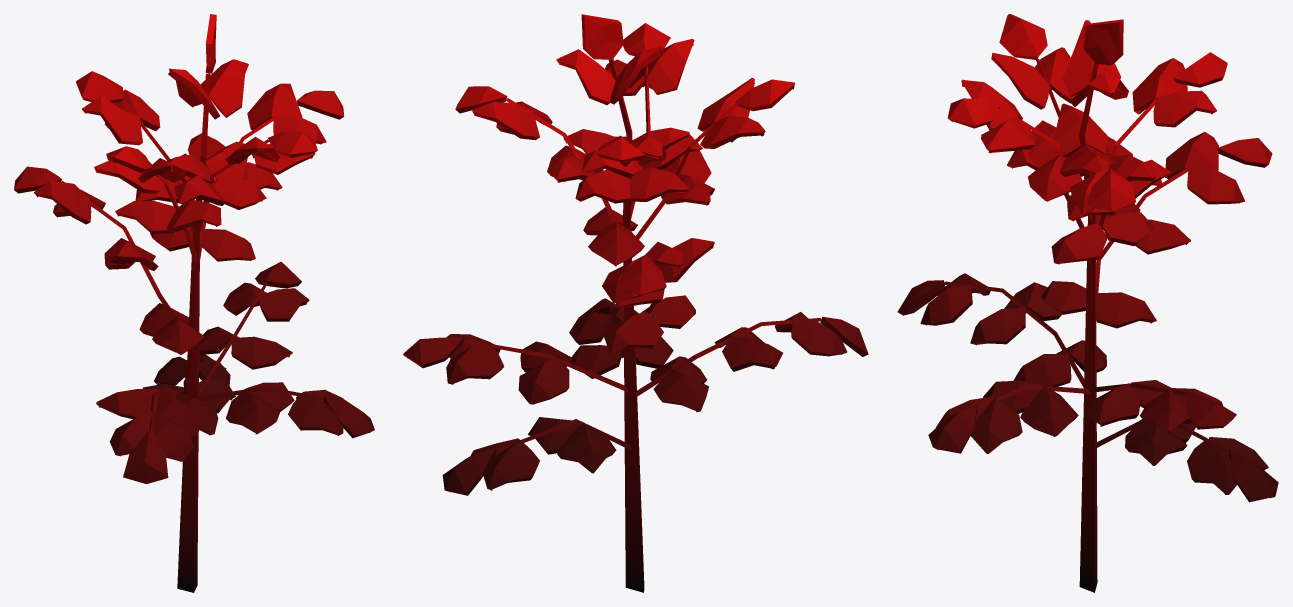
Rendered from TreeWalnutSmall06.fbx.
The picture shows the model from 3 angles, left to right: view 1: azimuth 30°, elevation 25°; view 2: azimuth 150°, elevation 25°; view 3: azimuth 270°, elevation 25°; orthographic projection. The views are drawn at different scales.
Parts seen in each view (by area): view 1: TreeWalnutSmall06_LOD0; view 2: TreeWalnutSmall06_LOD0; view 3: TreeWalnutSmall06_LOD0.
Part boxes in pixels (<box>): TreeWalnutSmall06_LOD0: <box>14,14,374,592</box>; TreeWalnutSmall06_LOD0: <box>403,14,868,592</box>; TreeWalnutSmall06_LOD0: <box>897,14,1278,592</box>.
Size of what is drawn, in the model's own units: 108 by 186 by 109.
